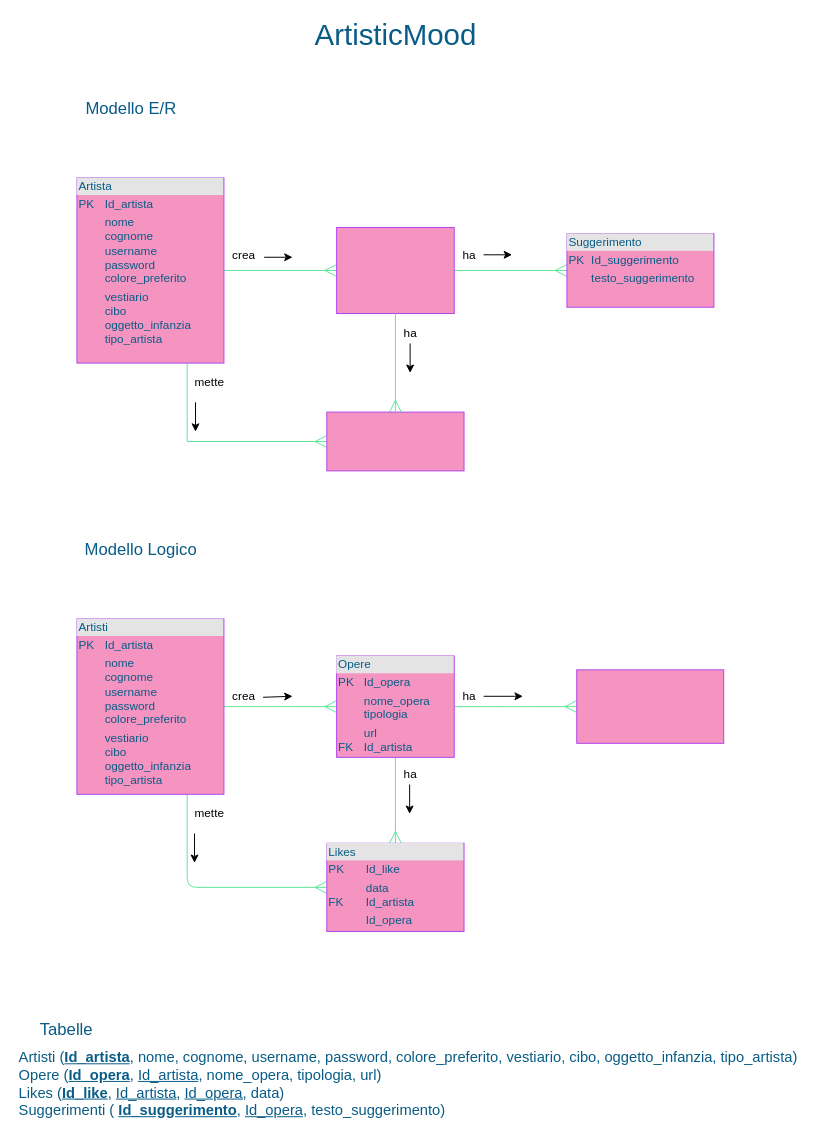
Image size: 827x1135. Some labels were removed from this diagram. Each missing label, with the centre of its shape:
Like PK Id_like data: [395,441]
Opera PK Id_opera nome_opera tipologia url: [395,270]
Suggerimenti PK Id_suggerimento testo_suggerimento FK Id_opera: [650,706]
